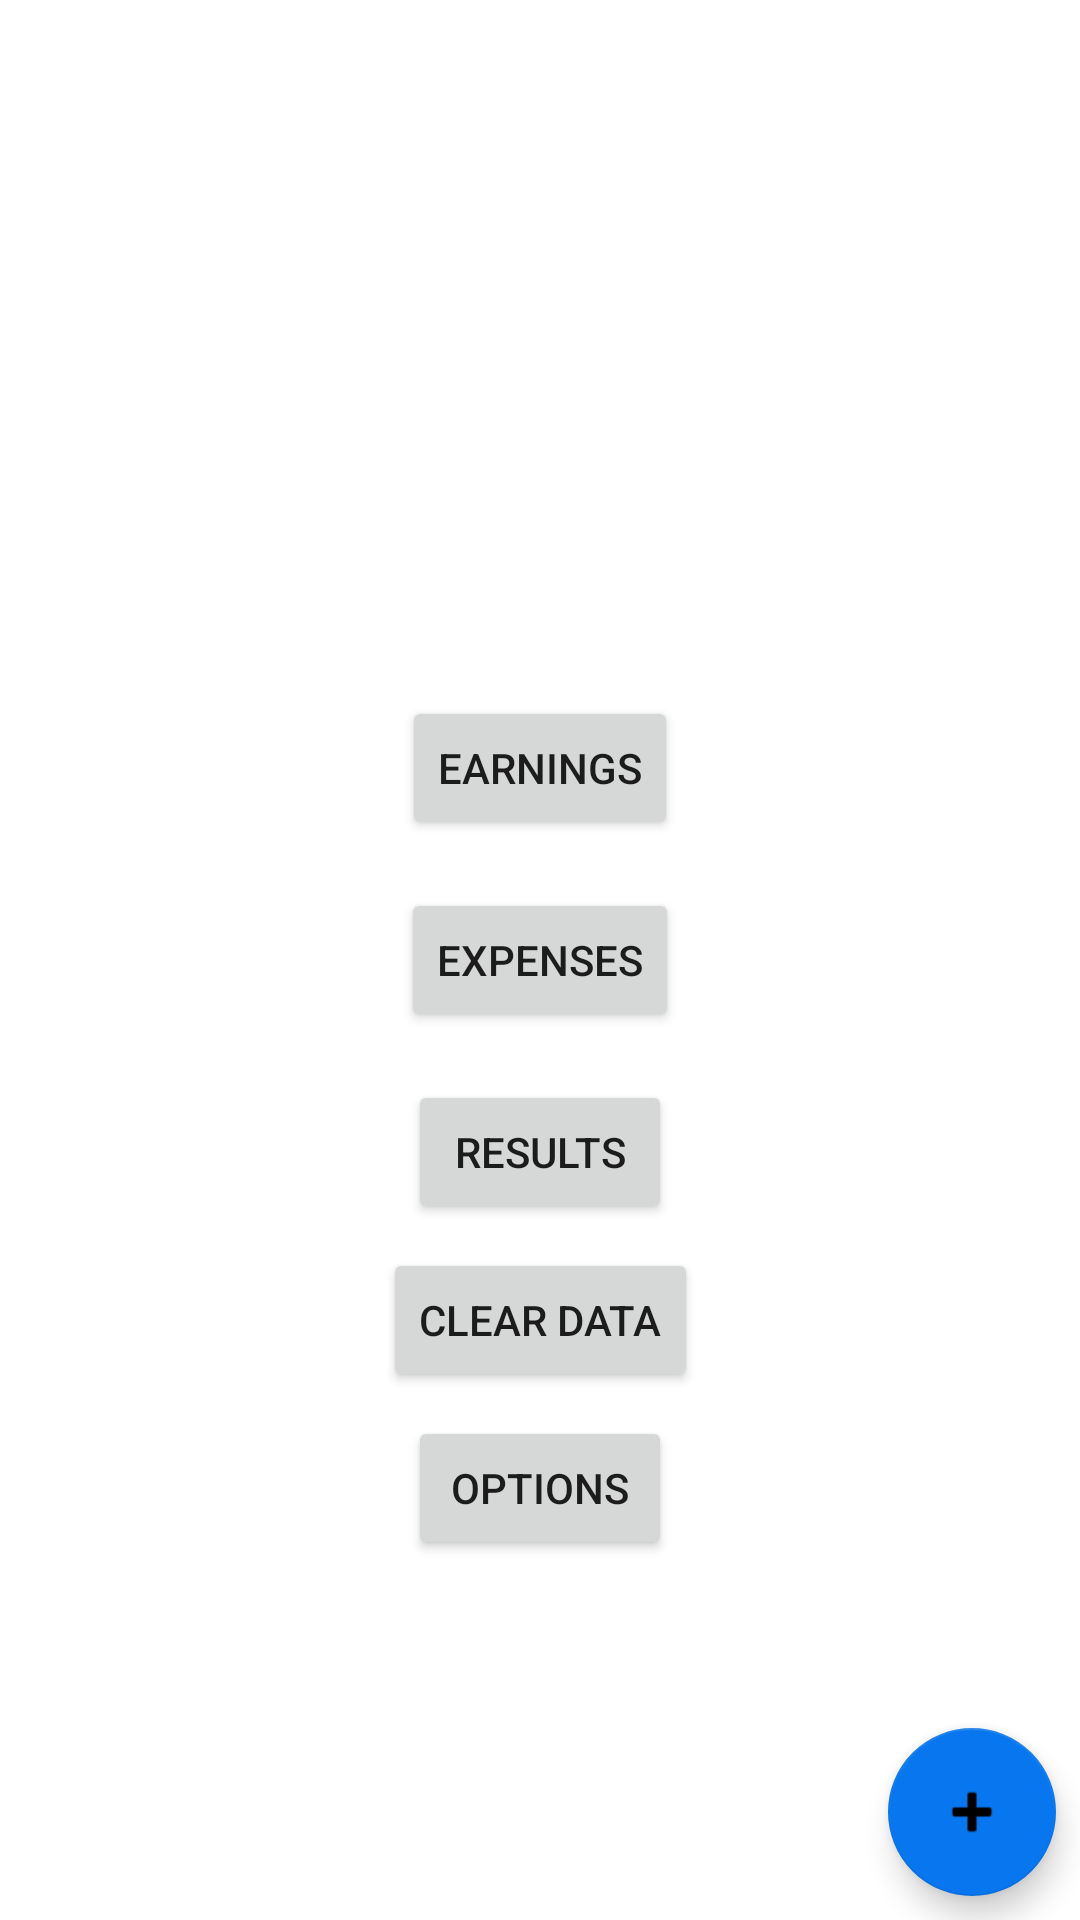

Point at icon controls on the screen. Image size 1080 x 1920, points as [x,y].
Add new item: [972,1812]
